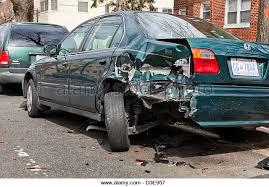Taillight-Damage: (136, 73, 186, 104)
doorouter-dent: (71, 55, 105, 109)
fender-dent: (123, 37, 182, 75)
